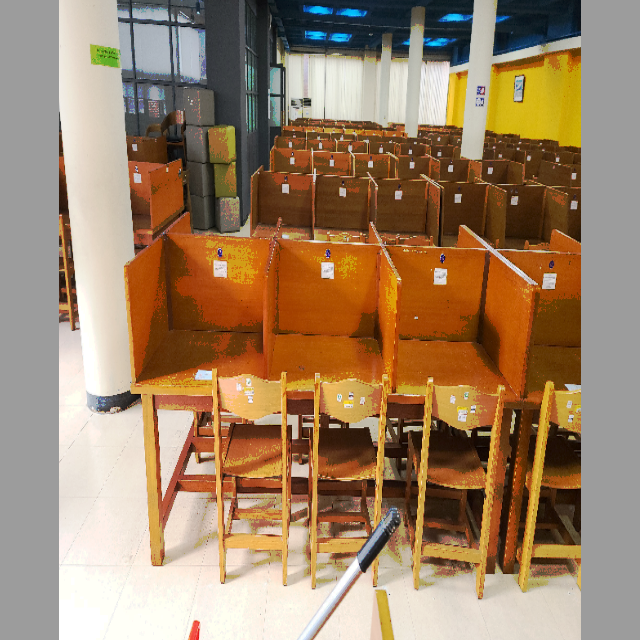empty: (127, 233, 264, 448), (401, 249, 533, 464), (269, 241, 398, 441)
